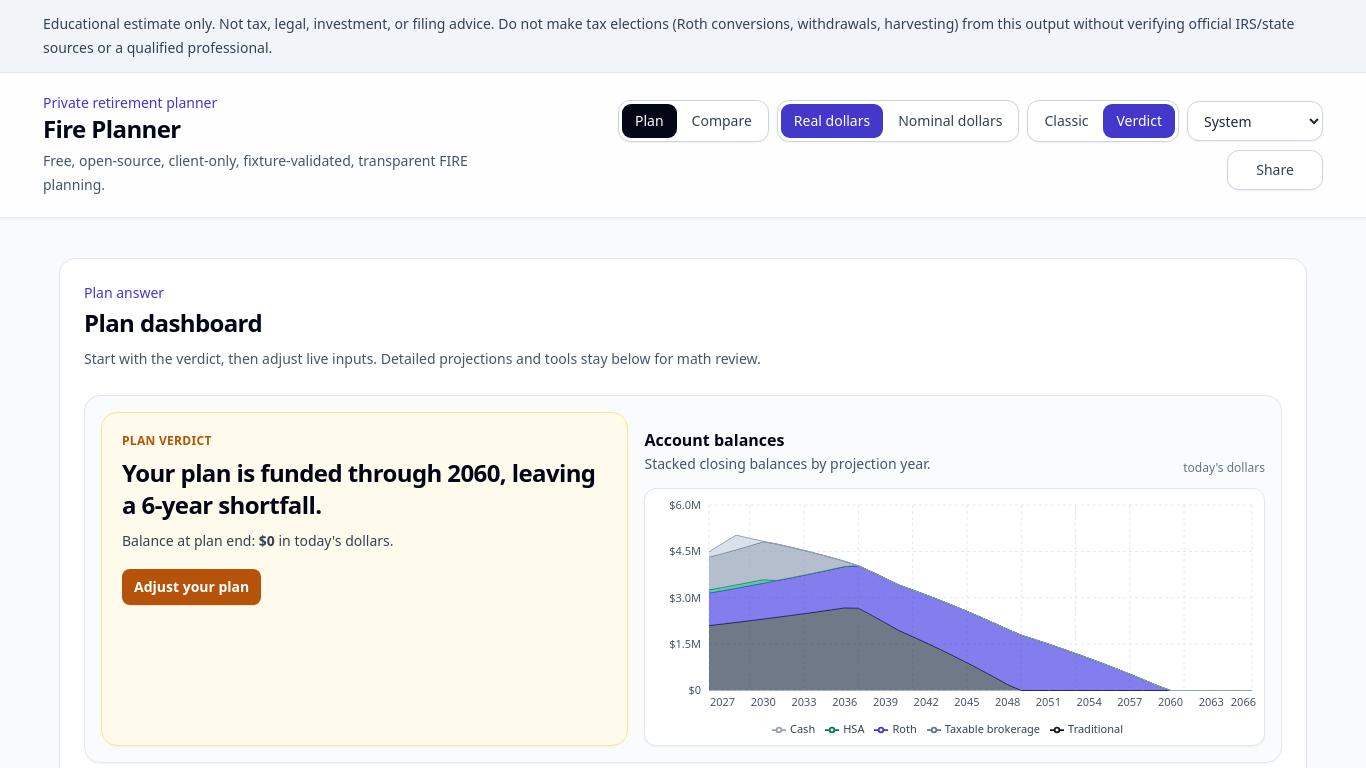
Test case: App › keeps the shell control area accessible while sharing, display, and theme controls coexist
Expected: the dropdown named "Theme" shows "System", 1187,101 -> 1323,141
What coordinates should you click on to do the following:
click the button "Nominal dollars"
I would click on:
 (950, 121)
Its box is 886,105 -> 1014,137.
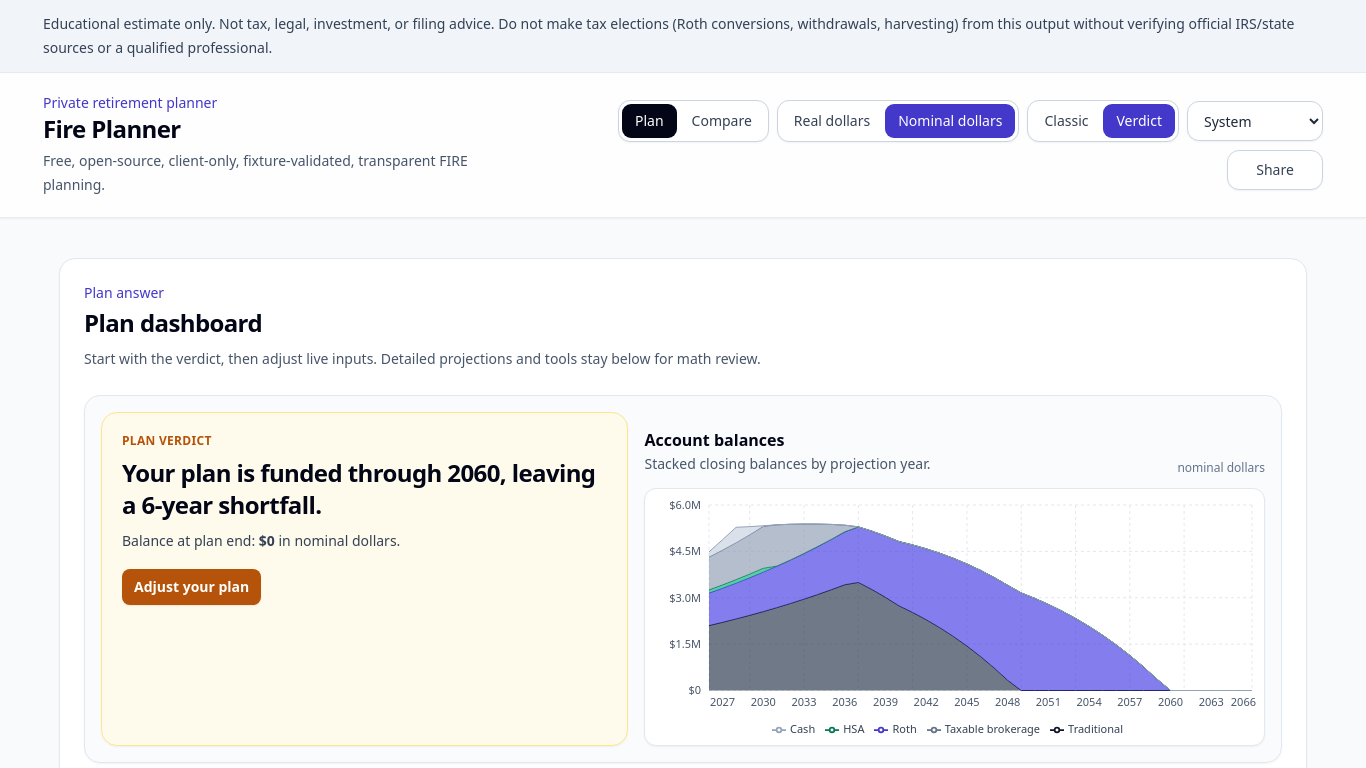
What coordinates should you click on to do the following:
click the button "Share"
I would click on:
 (1275, 170)
Its box is 1227,150 -> 1323,190.
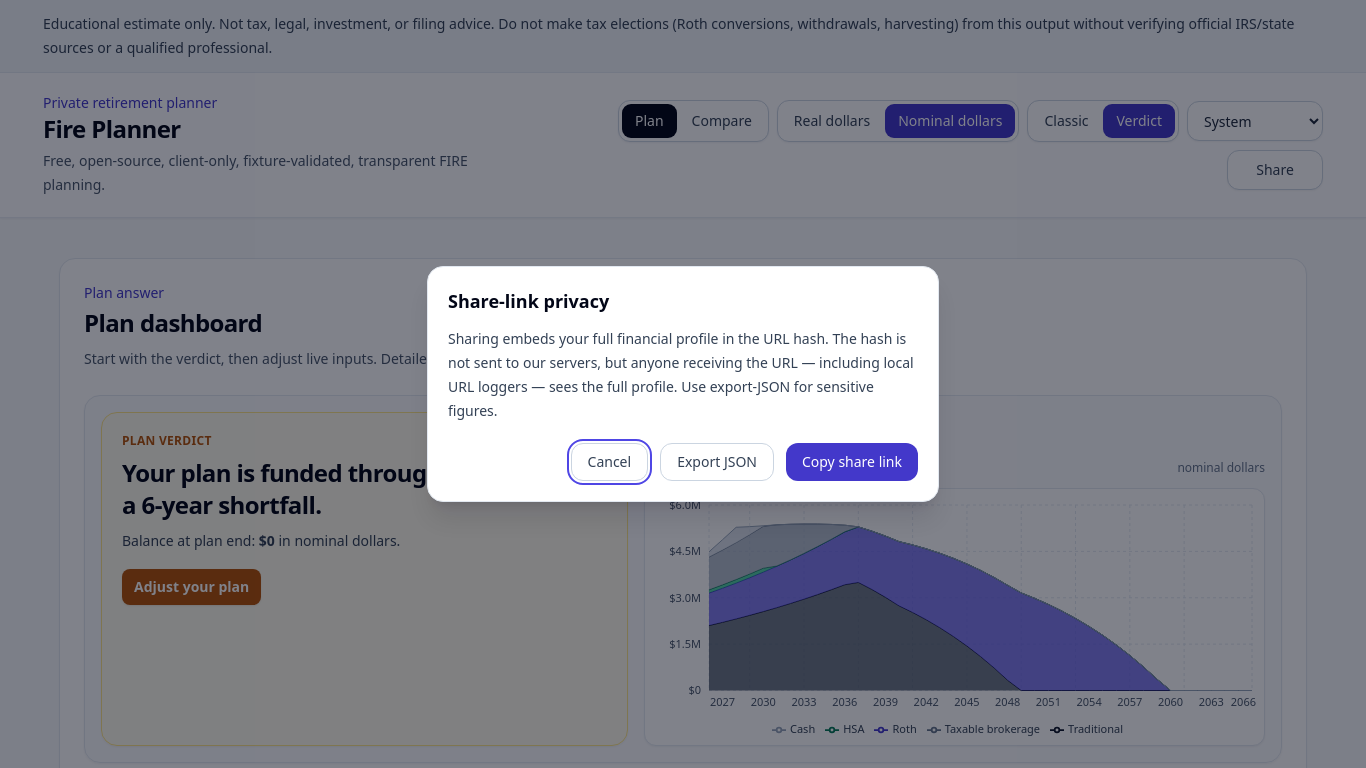
Now the dialog "Share-link privacy" is shown, box 427,266 -> 939,502
